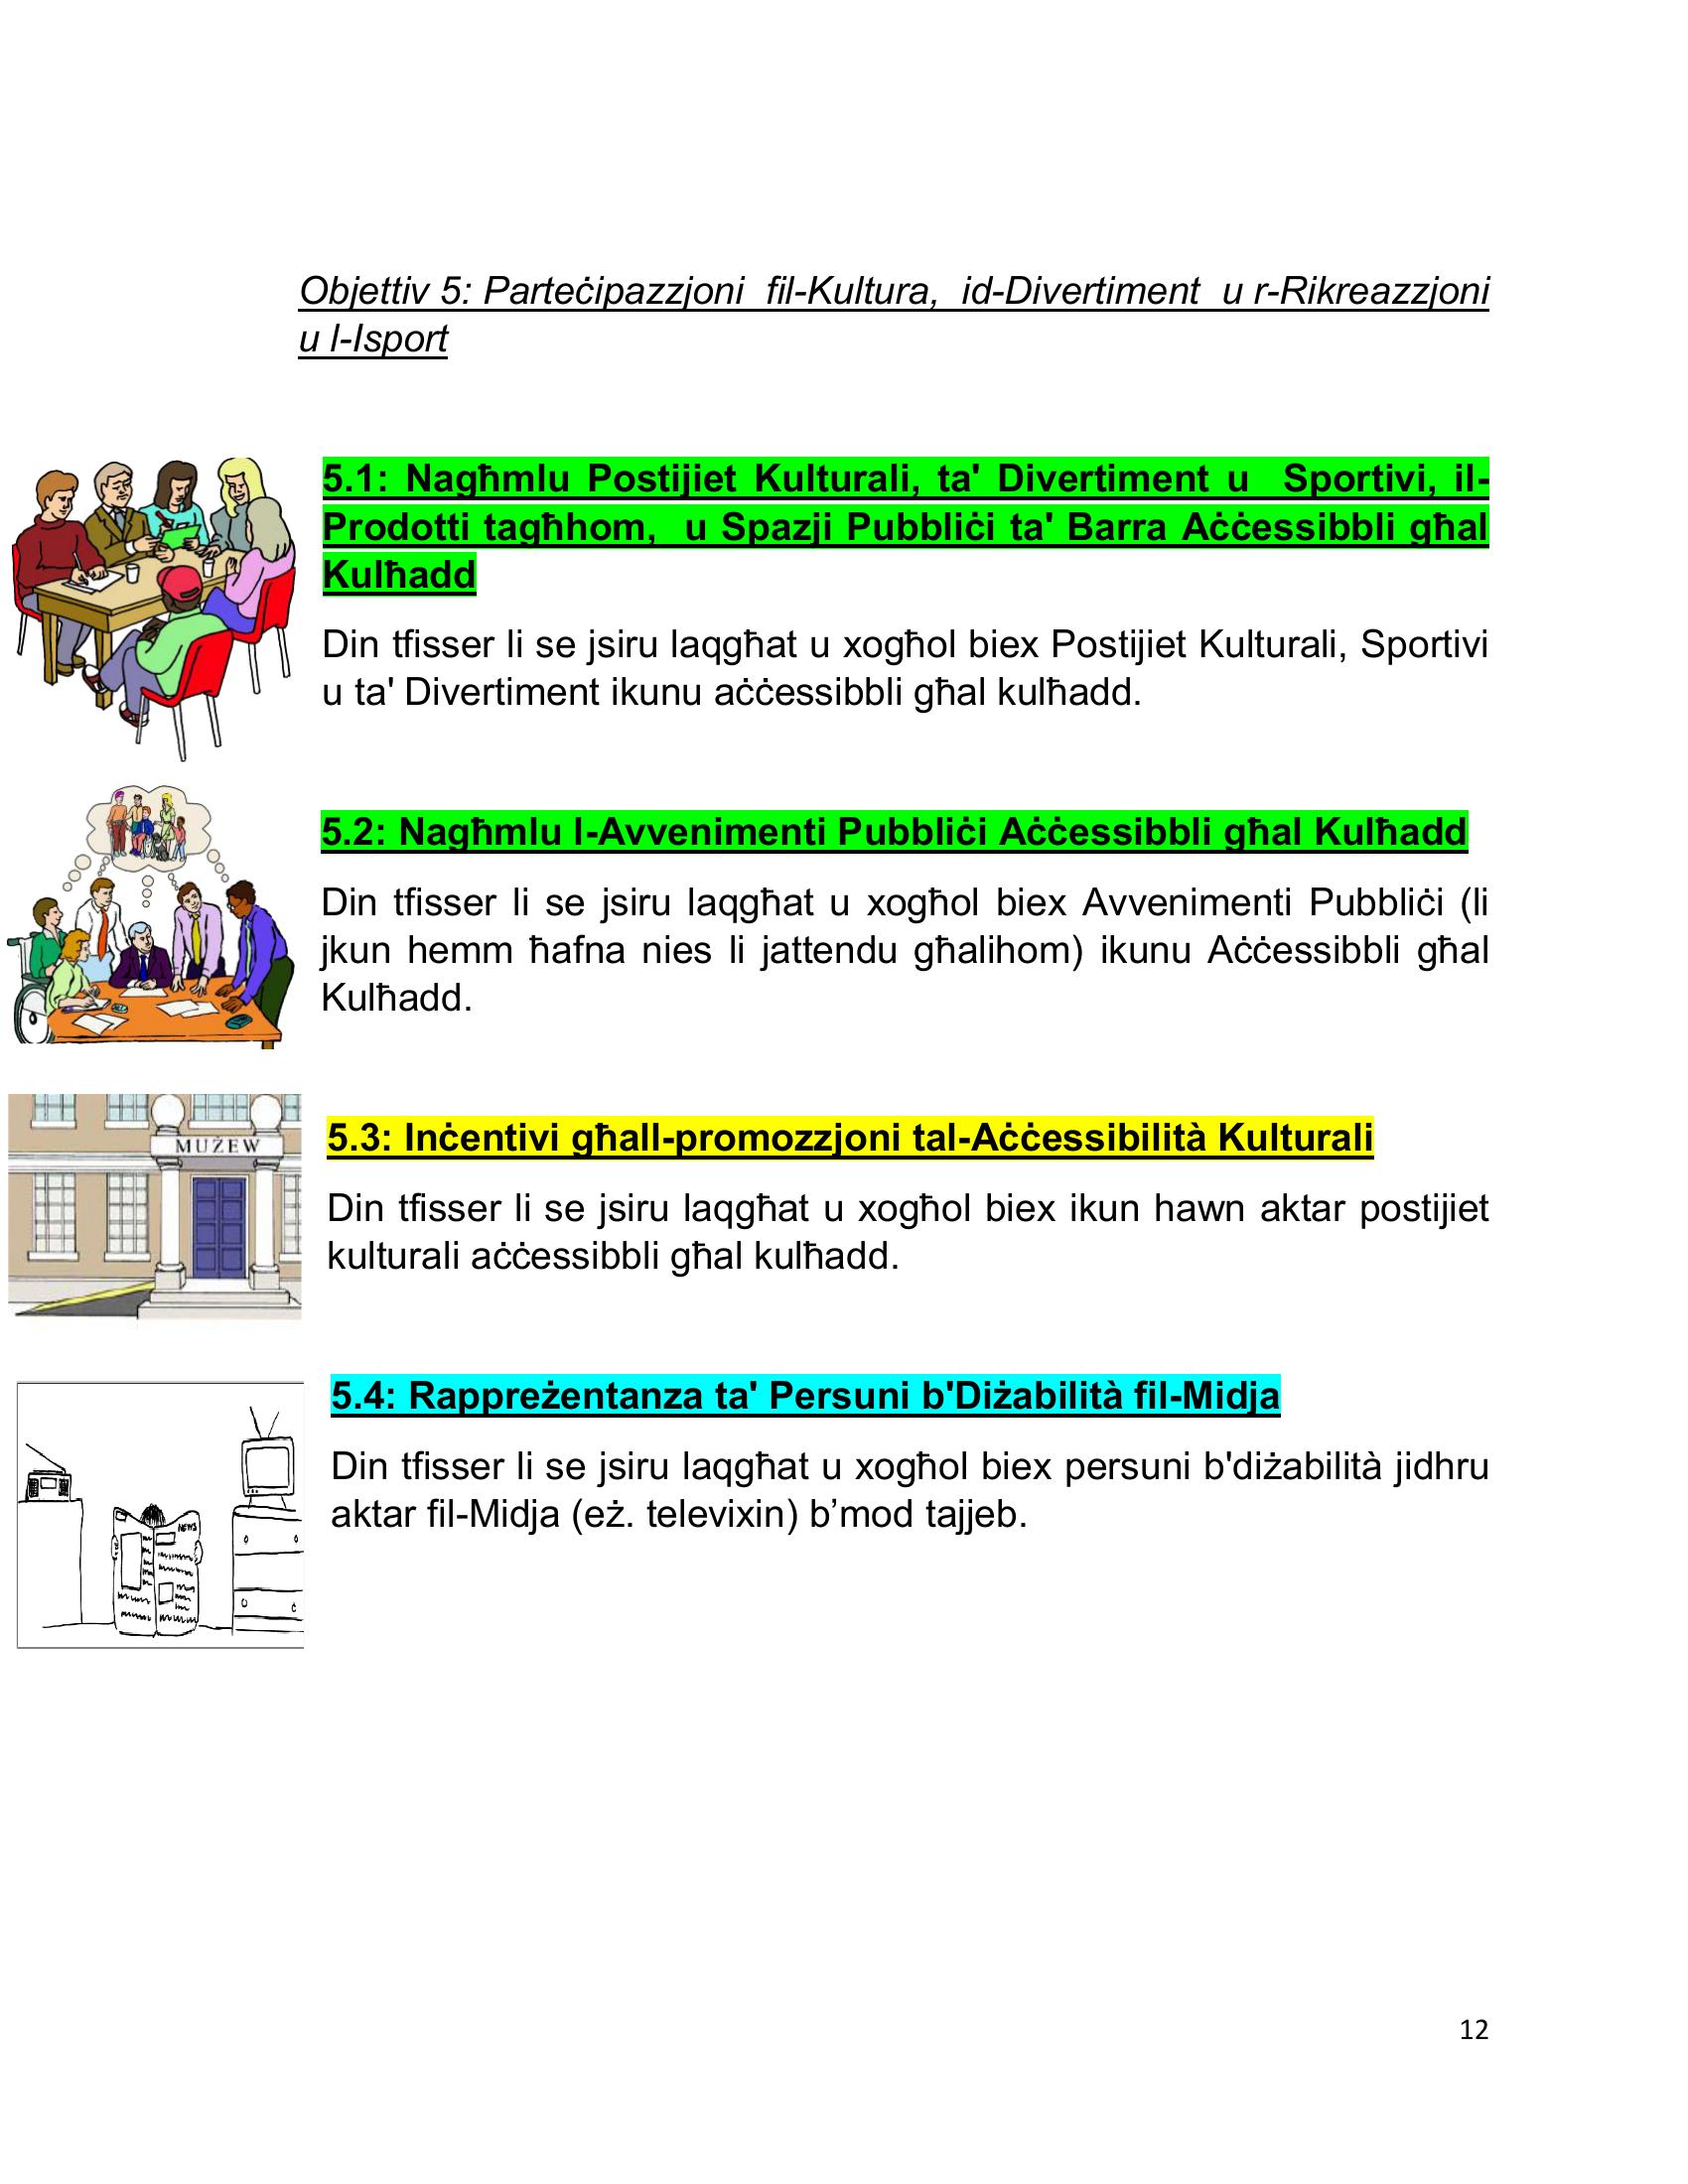text: (270, 245, 1534, 1585)
whiteout: (2, 417, 309, 1647)
